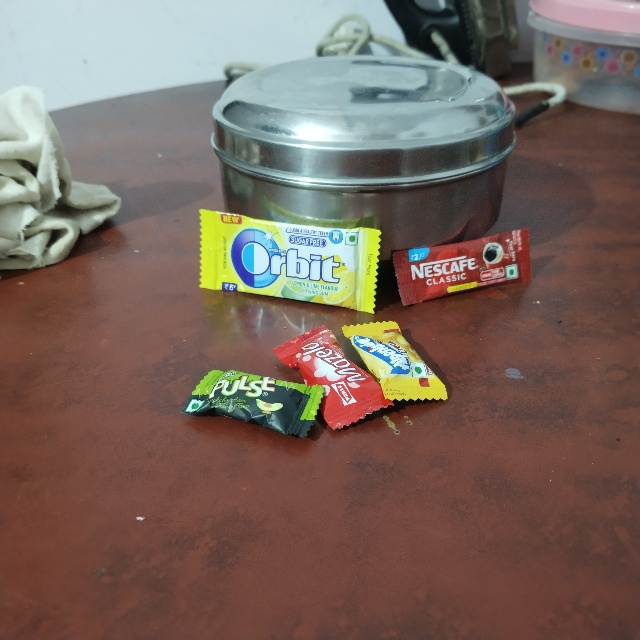Alpenlibe Creamfills: (339, 330, 401, 439)
Mazelo: (279, 347, 341, 457)
Nescafe Coffee: (390, 252, 535, 306)
Orbit: (188, 296, 276, 488)
Pulse: (181, 416, 244, 548)
